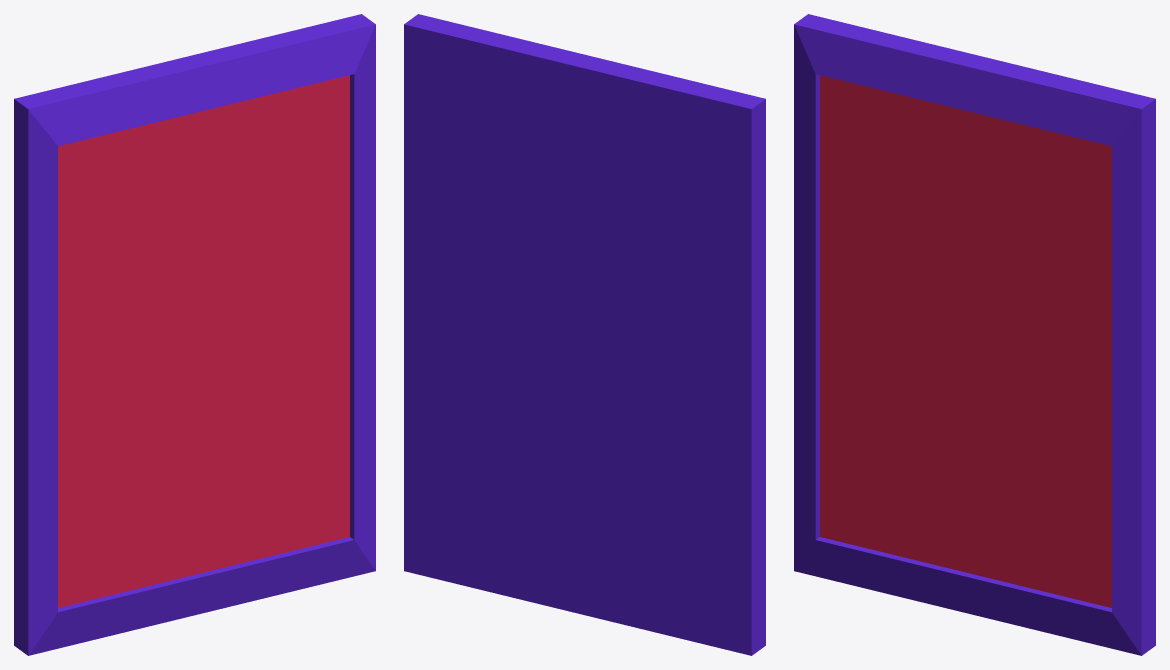
Rendered from BlankWall1x1UVID.fbx.
The picture shows the model from 3 angles, left to right: view 1: azimuth 30°, elevation 25°; view 2: azimuth 150°, elevation 25°; view 3: azimuth 330°, elevation 25°; orthographic projection.
Parts seen in each view (by area): view 1: Wall3.001; view 2: Wall3.001; view 3: Wall3.001.
Boxes of the visible parts, x1,y1,x2,y2 form: Wall3.001: (14, 14, 375, 655); Wall3.001: (404, 14, 765, 655); Wall3.001: (794, 14, 1155, 655).
Size of the model in its own units: 65.75 by 98.79 by 5.99.
